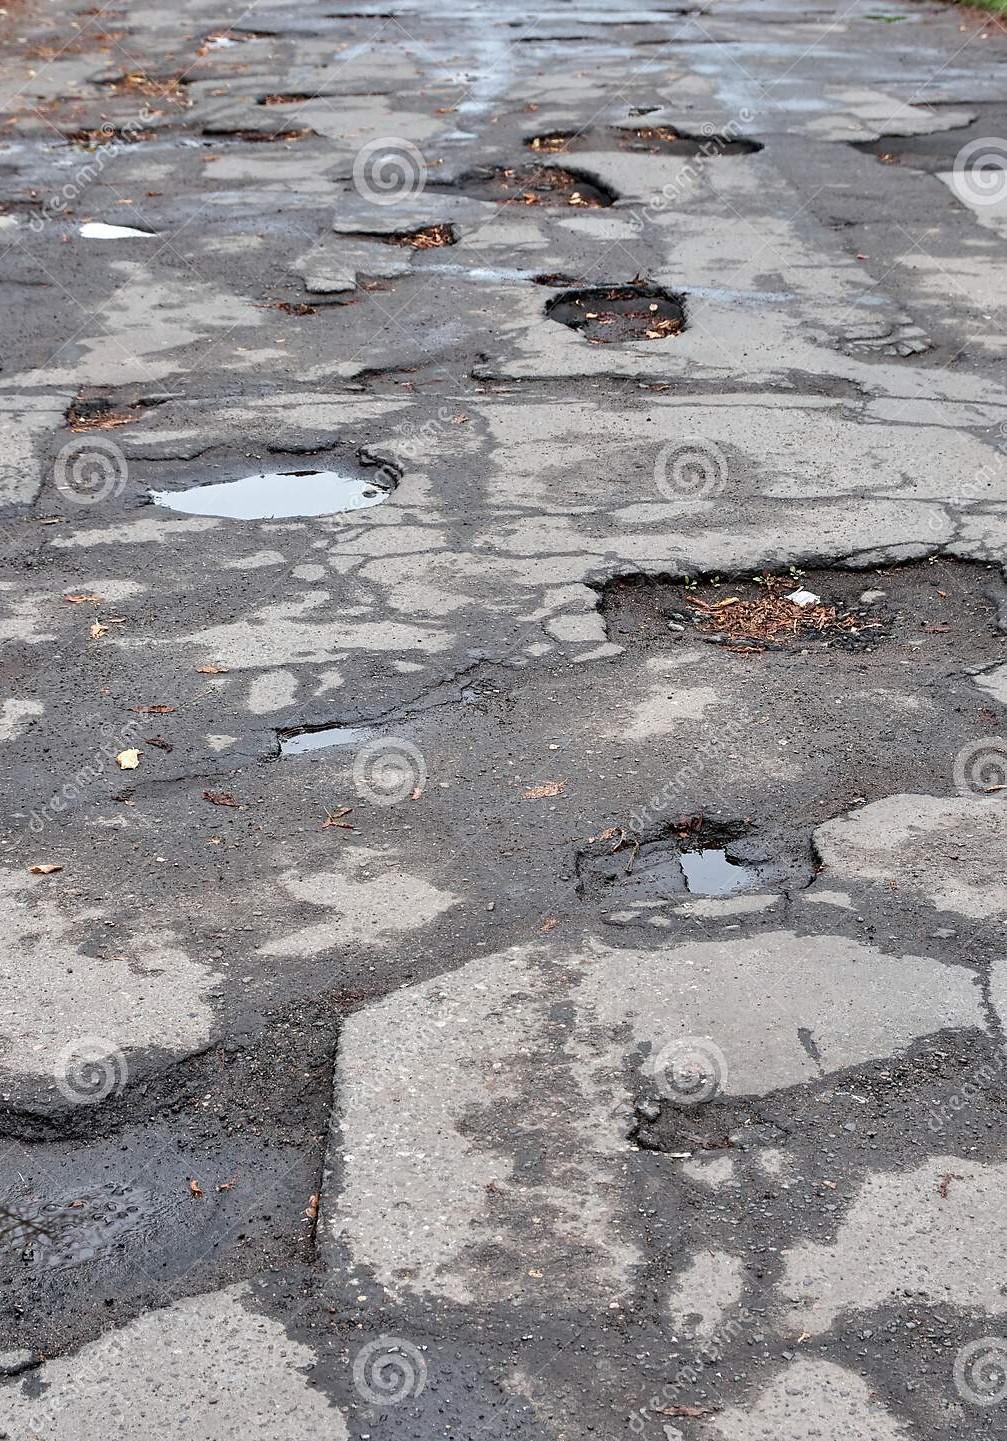pothole: (0, 968, 360, 1377), (576, 522, 1007, 689), (563, 808, 818, 953), (97, 430, 412, 542), (613, 1086, 808, 1172), (530, 268, 703, 348), (850, 88, 1007, 168), (438, 159, 615, 220), (0, 199, 155, 243), (248, 713, 375, 760), (180, 113, 322, 154), (202, 16, 310, 48), (244, 88, 356, 105)
